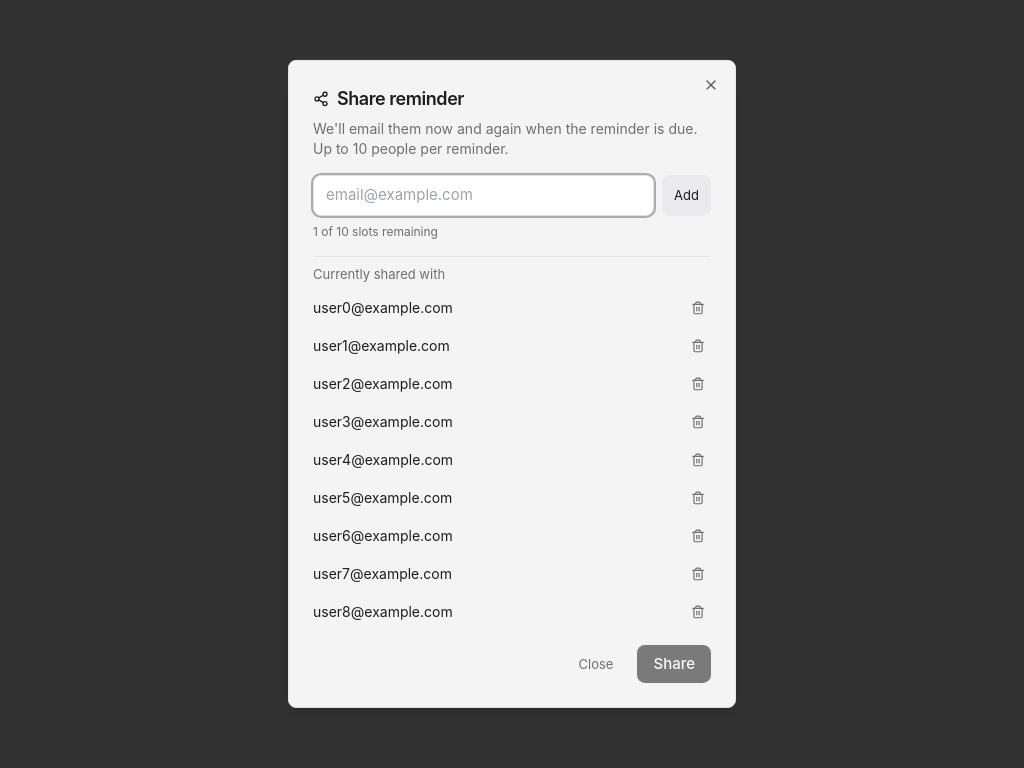
ShareReminderDialog › enforces the 10-recipient cap across active + pending
Check: the button named "Revoke share with user0@example.com" is shown, box [685,295,711,321]
Type "new1@example.com" into the field with placeholder "email@example.com".
click(484, 195); type("new1@example.com")  # box [313,175,654,215]
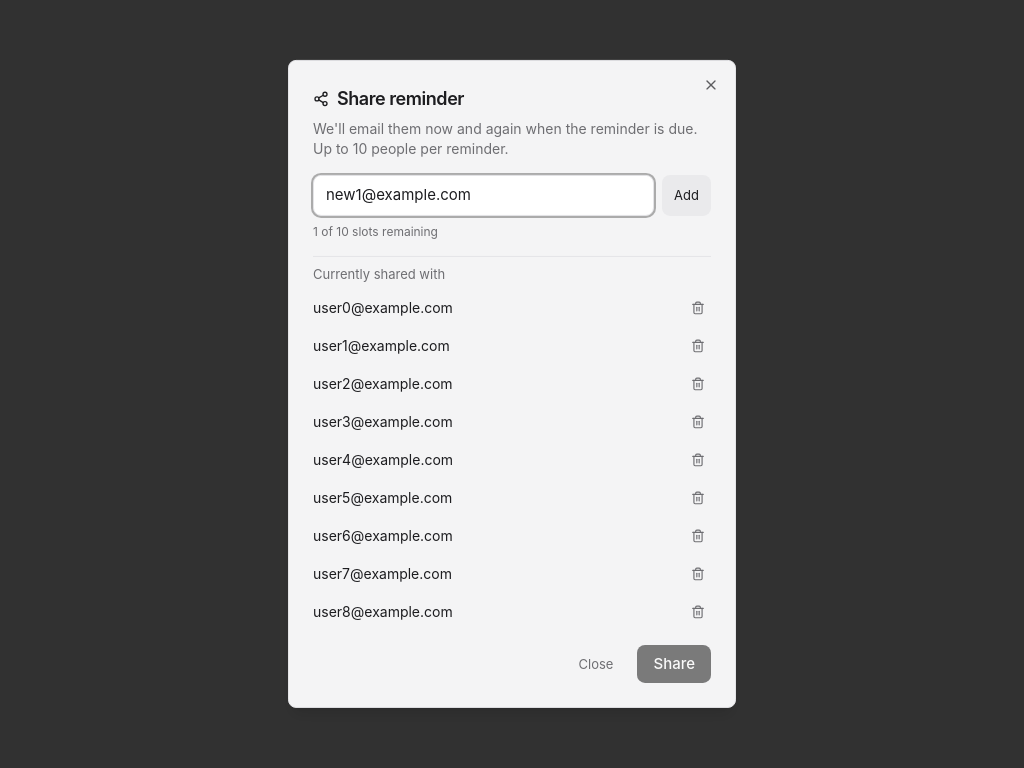
Click the button "Add".
click(687, 195)  # box [662,175,711,215]
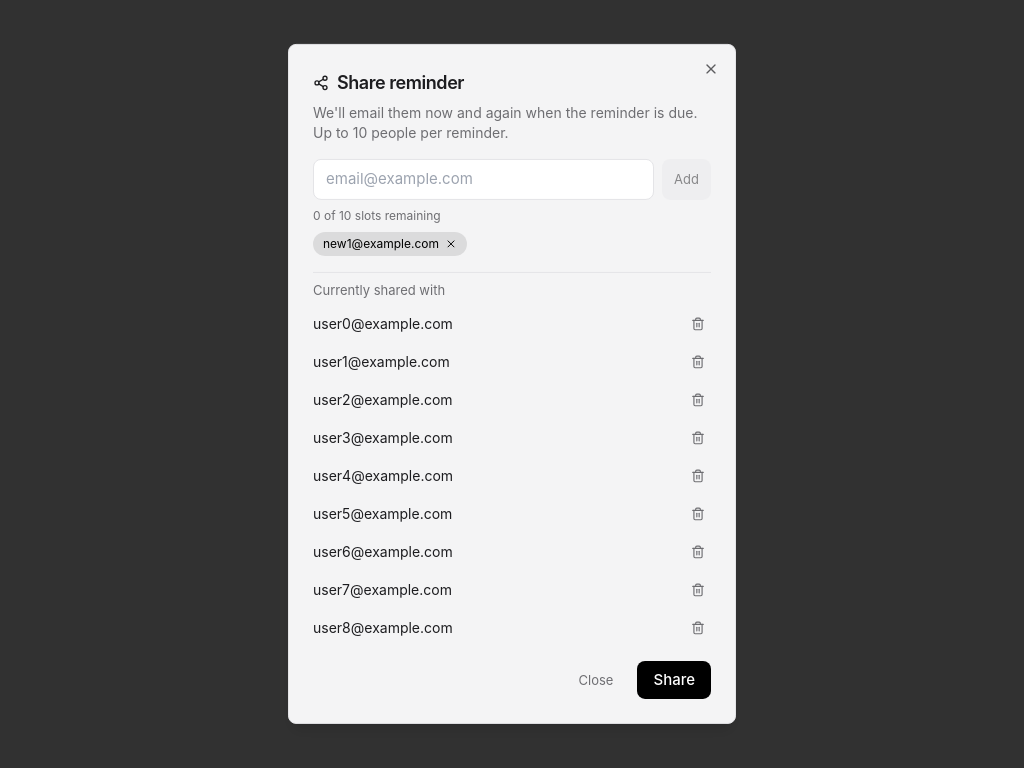
Check: the text "0 of 10 slots remaining" is shown, box [313,207,441,222]
Check: the field with placeholder "email@example.com" is disabled, box [313,159,654,199]
Check: the button "Add" is disabled, box [662,159,711,199]
